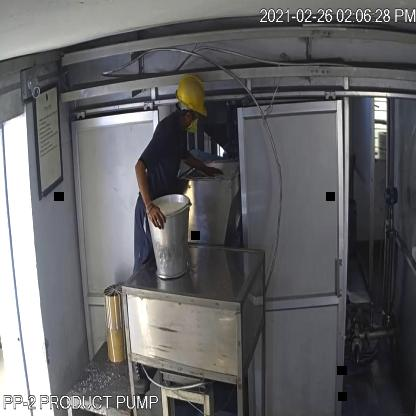helmet: (176, 73, 209, 119)
